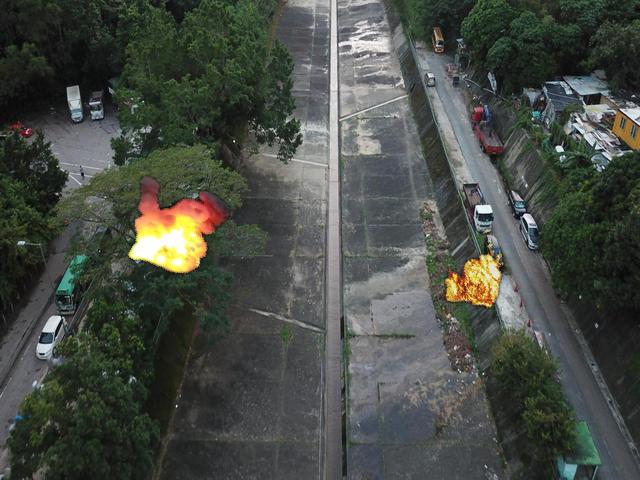fire: (124, 172, 231, 275), (441, 228, 504, 317)
